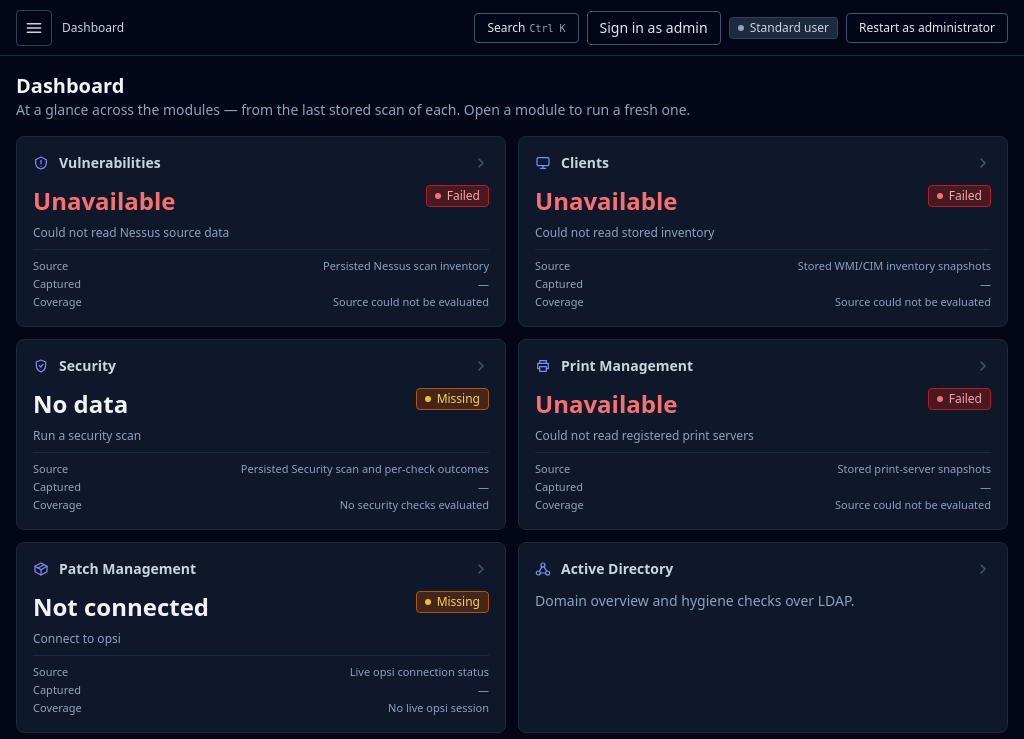
it: responsive application shell › keeps an elevation failure actionable and its diagnostics collapsed
Click the button "Restart as administrator": x=927, y=28 left=846, top=12, right=1008, bottom=42
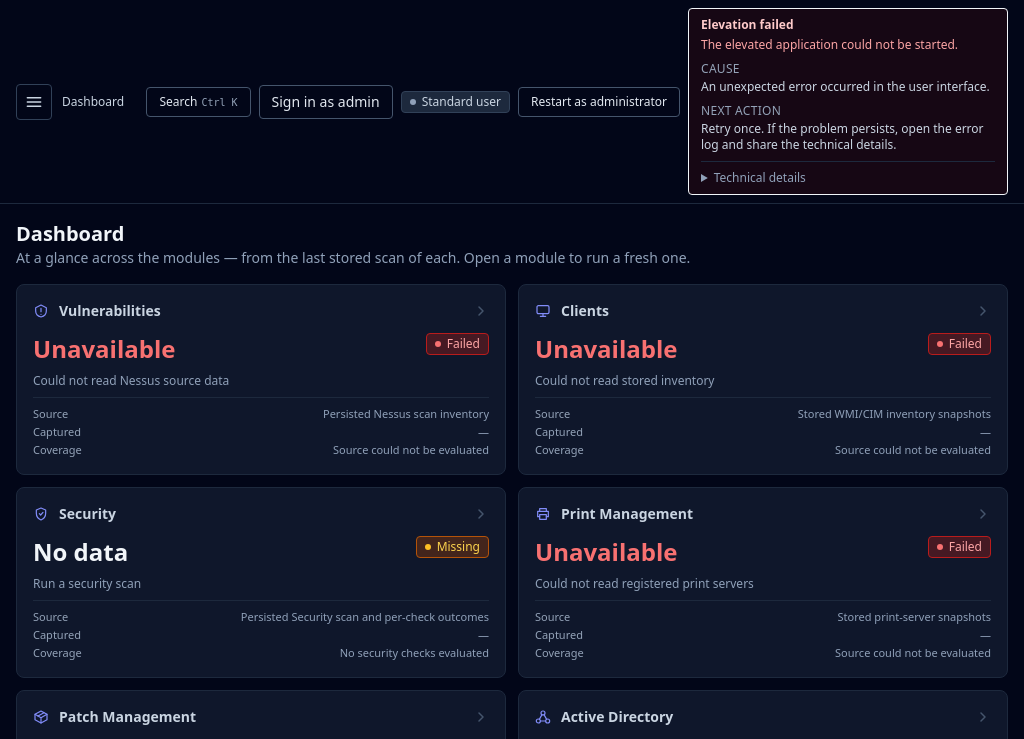
Check: the text "The elevated application could not be started." is shown, box left=701, top=37, right=995, bottom=53
Check: the text "Next action" is shown, box left=701, top=102, right=781, bottom=119
